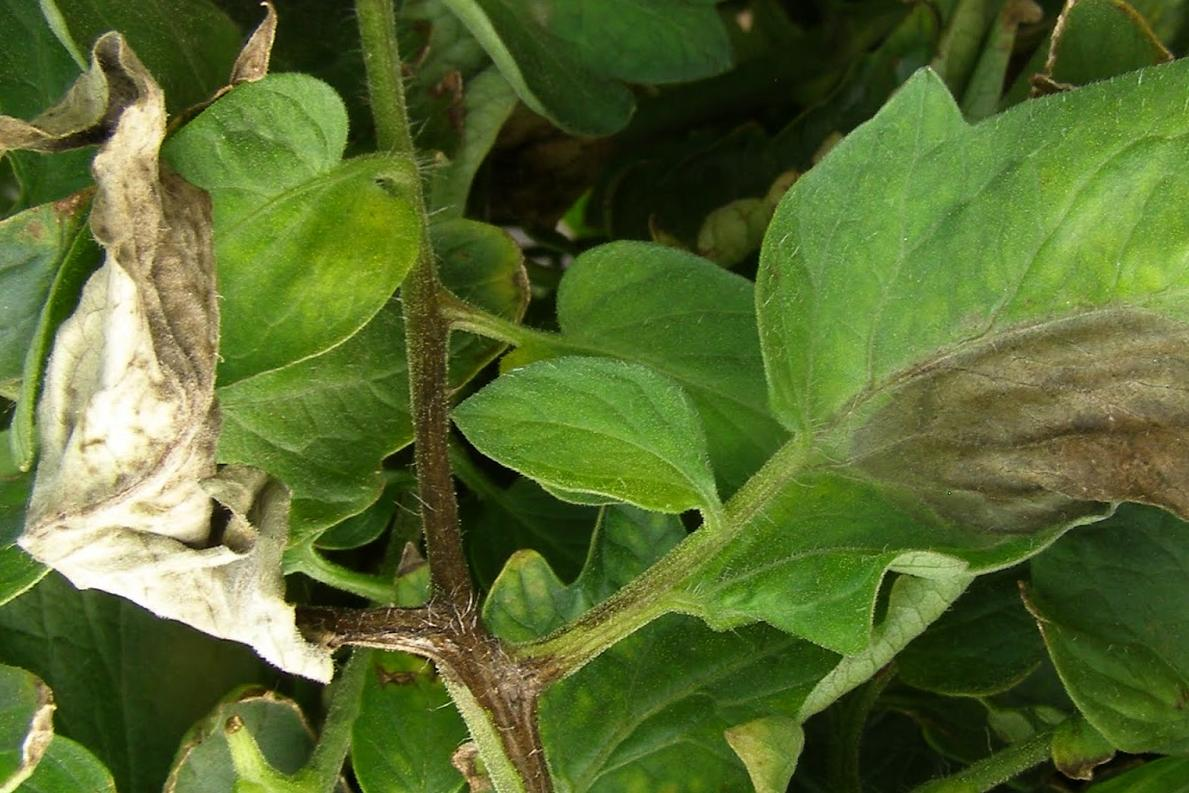Tomato mold leaf: (735, 50, 1189, 652), (442, 343, 730, 534)
